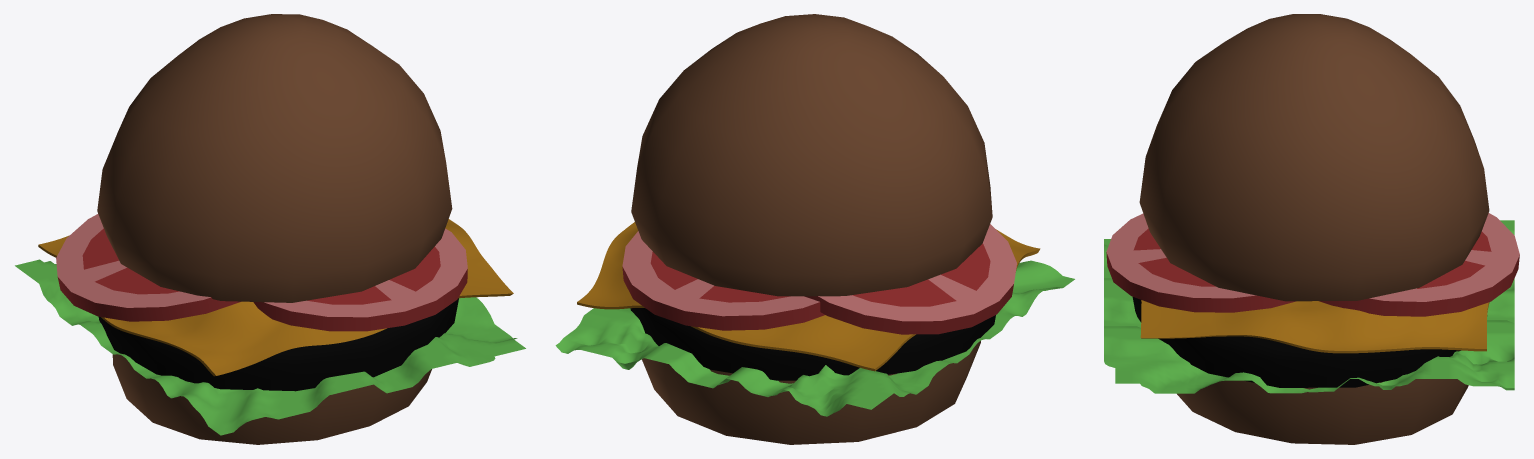
Rendered from testing.fbx.
The picture shows the model from 3 angles, left to right: view 1: azimuth 30°, elevation 25°; view 2: azimuth 150°, elevation 25°; view 3: azimuth 270°, elevation 25°; orthographic projection.
Visible parts, largest first — view 1: Hamburger_Bun, pPlane1, Meat, pCube1, Bottom_Bun, pCylinder1, pCylinder2; view 2: Hamburger_Bun, pPlane1, Bottom_Bun, pCylinder2, pCylinder3, pCube1, Meat; view 3: Hamburger_Bun, Bottom_Bun, pCube1, pPlane1, Meat, pCylinder1, pCylinder3.
Part boxes in pixels (bbox=[...]): Hamburger_Bun: bbox=[97, 14, 452, 302]; pPlane1: bbox=[15, 259, 525, 435]; Meat: bbox=[98, 298, 458, 391]; pCube1: bbox=[38, 219, 513, 376]; Bottom_Bun: bbox=[112, 354, 431, 444]; pCylinder1: bbox=[253, 228, 467, 331]; pCylinder2: bbox=[56, 214, 240, 321]; Hamburger_Bun: bbox=[631, 14, 992, 296]; pPlane1: bbox=[555, 260, 1074, 416]; Bottom_Bun: bbox=[642, 341, 980, 444]; pCylinder2: bbox=[804, 224, 1016, 334]; pCylinder3: bbox=[622, 231, 824, 330]; pCube1: bbox=[577, 222, 1040, 371]; Meat: bbox=[630, 308, 995, 380]; Hamburger_Bun: bbox=[1139, 14, 1489, 301]; Bottom_Bun: bbox=[1177, 379, 1468, 444]; pCube1: bbox=[1140, 300, 1489, 353]; pPlane1: bbox=[1104, 220, 1514, 393]; Meat: bbox=[1132, 297, 1461, 387]; pCylinder1: bbox=[1106, 213, 1295, 312]; pCylinder3: bbox=[1319, 213, 1519, 316].
Size of the model in its own units: 2.45 by 2.23 by 2.37.
